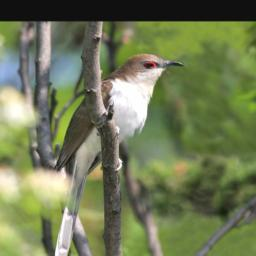Cuckoo: (52, 51, 187, 256)
